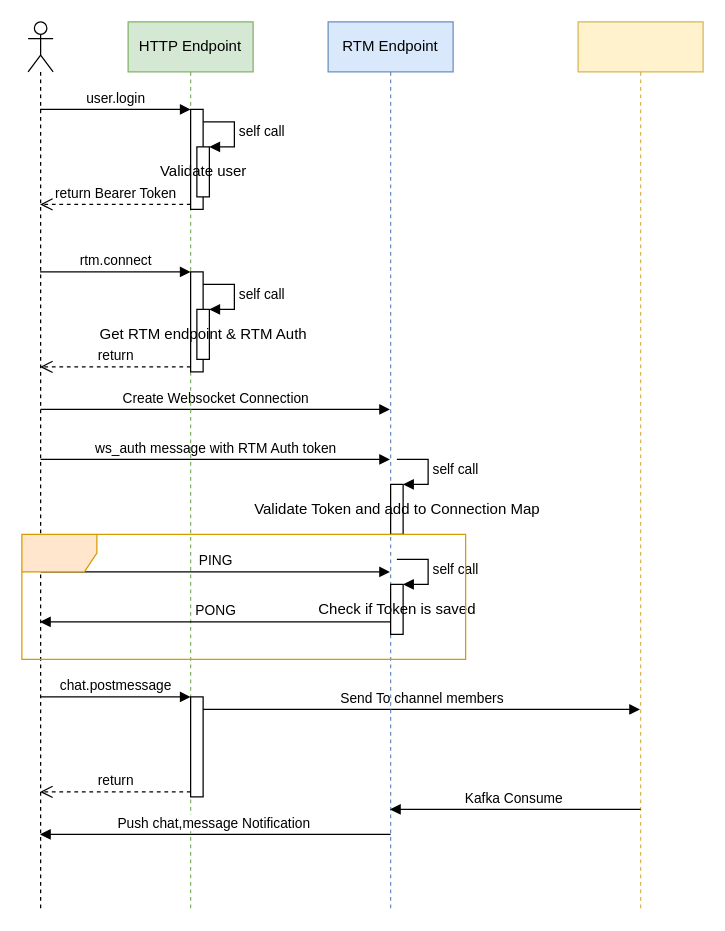
Image size: 725x931. Some labels were removed from this diagram. The shapes that lost their labels are listed below. From the top down, each one's box as (x1, y1, x2, y2) in pixels, then its label:
(577, 21, 703, 909): Kafka Queue
(21, 533, 466, 659): frame
